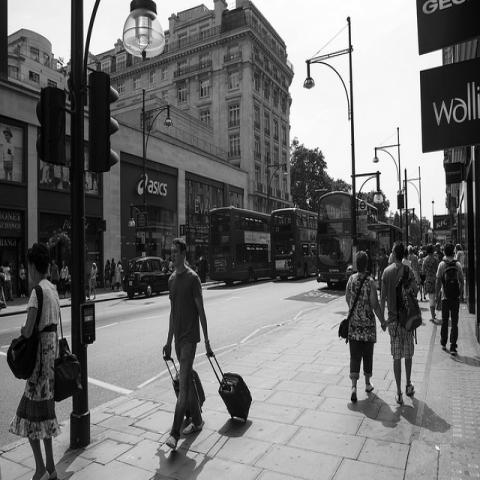bus: (316, 191, 379, 291), (210, 209, 270, 285), (270, 209, 319, 280), (374, 222, 402, 254)
car: (123, 255, 172, 298)
